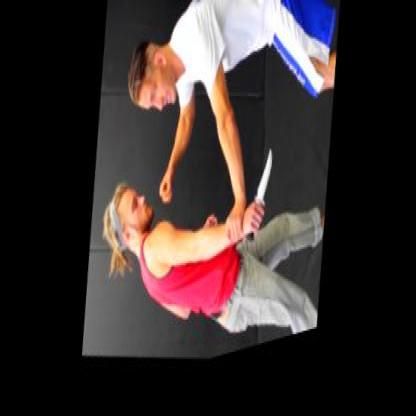knife: (238, 149, 278, 271)
